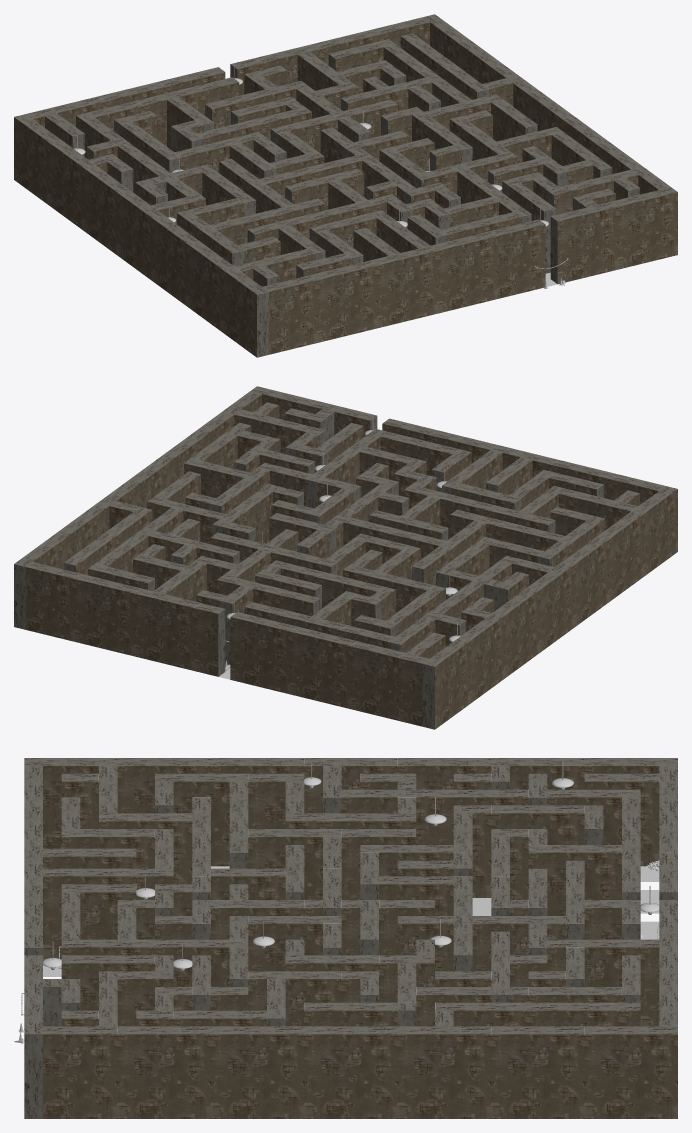
Rendered from Maze2.fbx.
3 views of the same model, one above another, from view 1: azimuth 30°, elevation 25°; view 2: azimuth 150°, elevation 25°; view 3: azimuth 270°, elevation 25° (orthographic). The views are drawn at different scales.
Visible parts, largest first — view 1: set_maze_01; view 2: set_maze_01; view 3: set_maze_01.
Boxes of the visible parts, box(x1,y1,x2,y2) form: set_maze_01: box(14, 14, 677, 357); set_maze_01: box(14, 386, 677, 729); set_maze_01: box(14, 758, 677, 1118).
Bounding box in the file's own units: 1050 × 171 × 1066.
